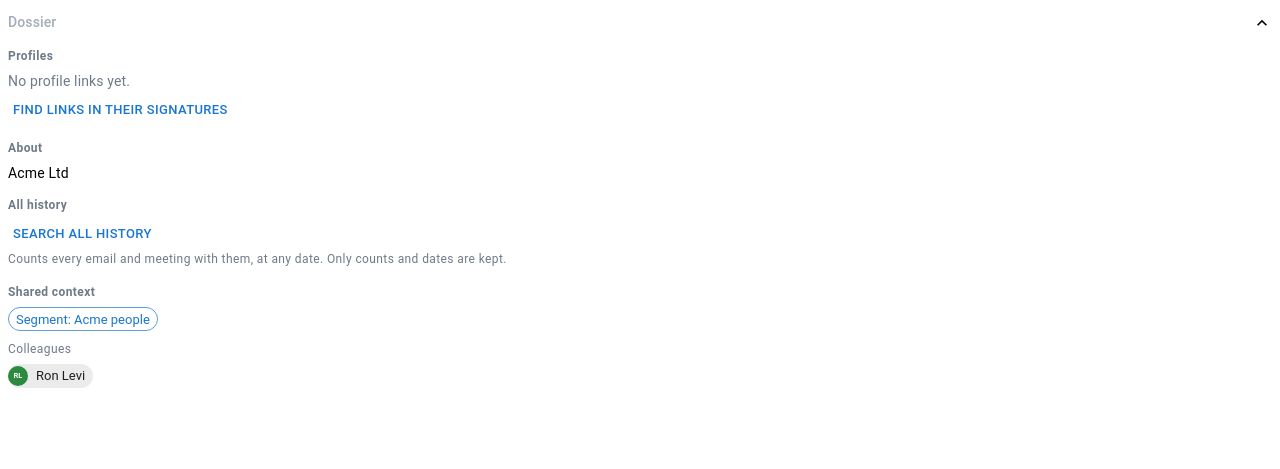
Test: the dossier (AD-46 rule 6) › searches all history on request and shows the counts and dates (AD-47 rule 7)
Enabled once the stored record has been asked for
Click the button "Search all history" at (82, 235), box [8,220,157,250]
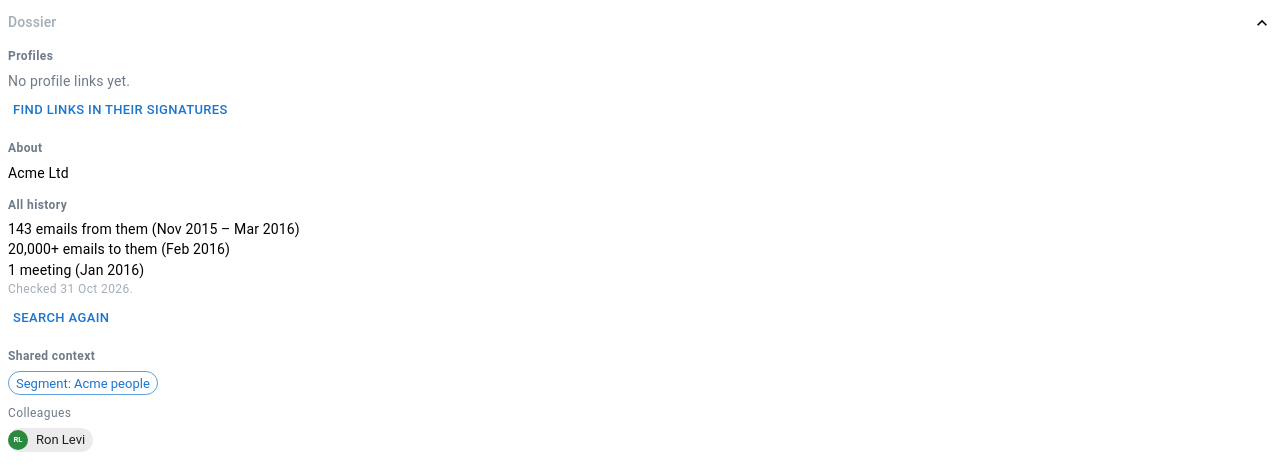
Expected: the text "143 emails from them (Nov 2015 – Mar 2016)" is shown, [8,222,300,238]
Expected: the text "20,000+ emails to them (Feb 2016)" is shown, [8,242,230,258]
Expected: the text "1 meeting (Jan 2016)" is shown, [8,262,144,278]
